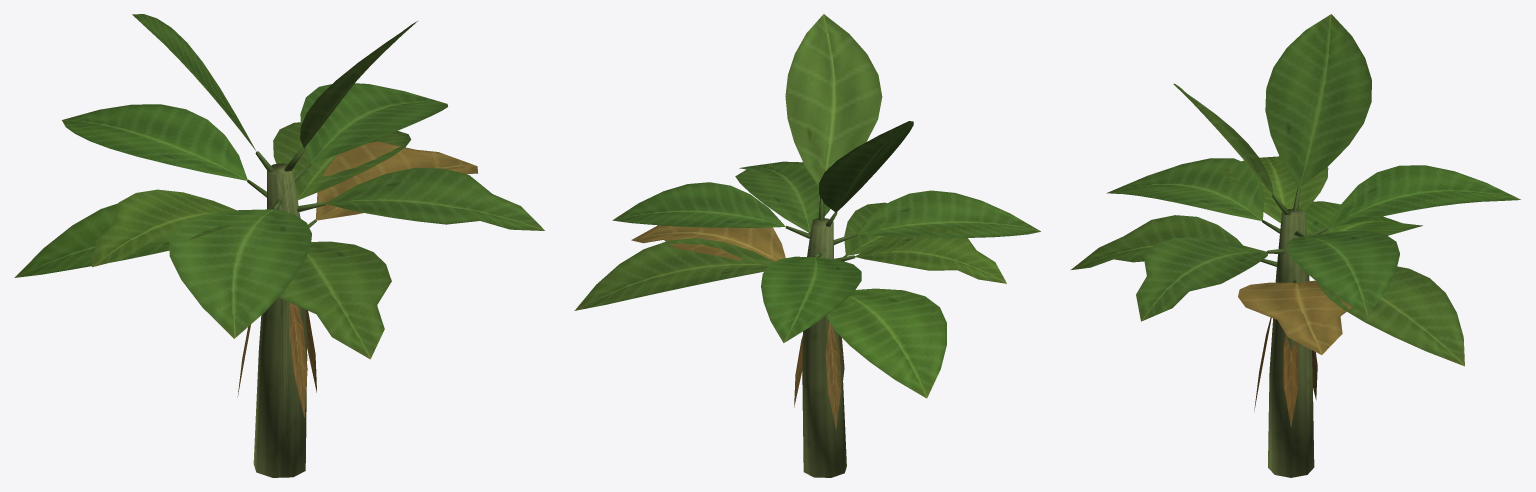
Rendered from Banana_Plant.glb.
The picture shows the model from 3 angles, left to right: view 1: azimuth 30°, elevation 25°; view 2: azimuth 150°, elevation 25°; view 3: azimuth 270°, elevation 25°; orthographic projection. The views are drawn at different scales.
Parts seen in each view (by area): view 1: Banana_Plant; view 2: Banana_Plant; view 3: Banana_Plant.
Part boxes in pixels (x1=…): Banana_Plant: x1=14, y1=14, x2=544, y2=477; Banana_Plant: x1=574, y1=14, x2=1040, y2=477; Banana_Plant: x1=1070, y1=14, x2=1520, y2=477.
Bounding box in the file's own units: 2.42 × 2.65 × 2.62.
1 material, 1 textured.
